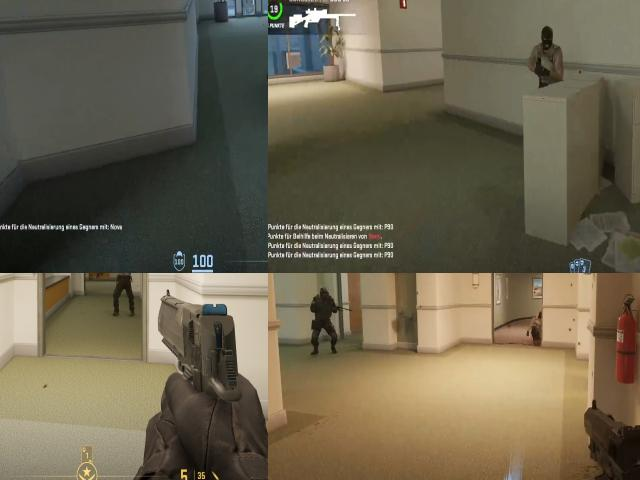CT: (314, 282, 336, 348)
CT-Head: (318, 284, 332, 302)
Dead: (522, 311, 545, 348)
T: (532, 23, 563, 82), (113, 273, 136, 310), (537, 23, 557, 51)
